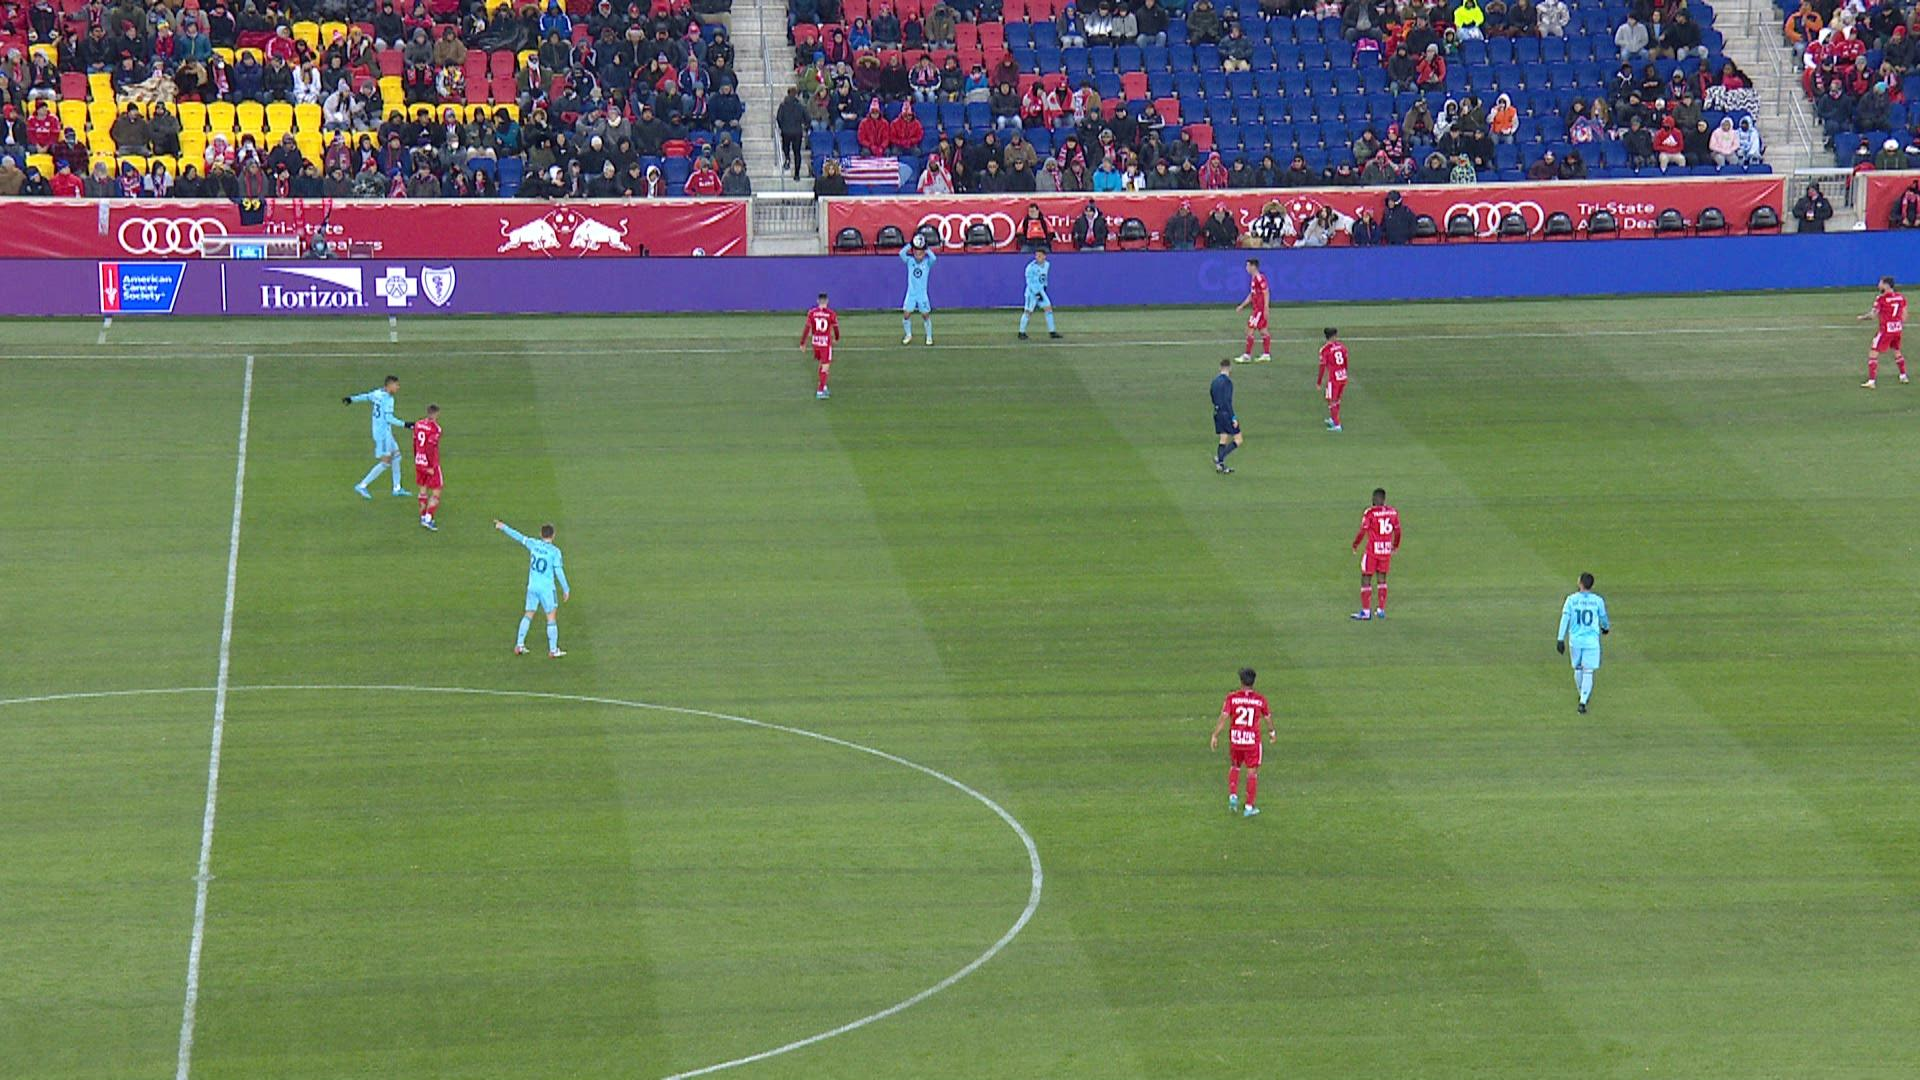football: (915, 236, 924, 247)
